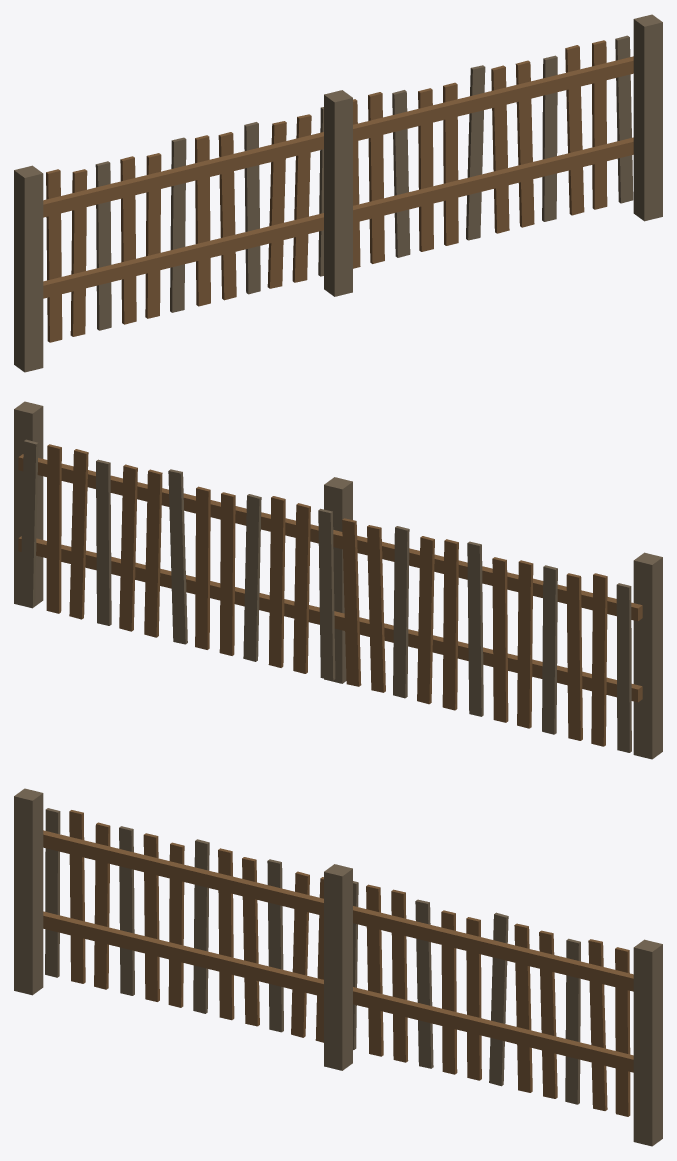
Rendered from UM_Lattenzaun_4m.fbx.
The picture shows the model from 3 angles, top to bottom: view 1: azimuth 30°, elevation 25°; view 2: azimuth 150°, elevation 25°; view 3: azimuth 330°, elevation 25°; orthographic projection.
Visible parts, largest first — view 1: UM_Lattenzaun_4m; view 2: UM_Lattenzaun_4m; view 3: UM_Lattenzaun_4m.
Part boxes in pixels (x1,y1,x2,y2): UM_Lattenzaun_4m: (14, 14, 662, 372); UM_Lattenzaun_4m: (14, 401, 662, 759); UM_Lattenzaun_4m: (14, 788, 662, 1146).
Size of the model in its own units: 4.12 by 1.2 by 0.2025.
